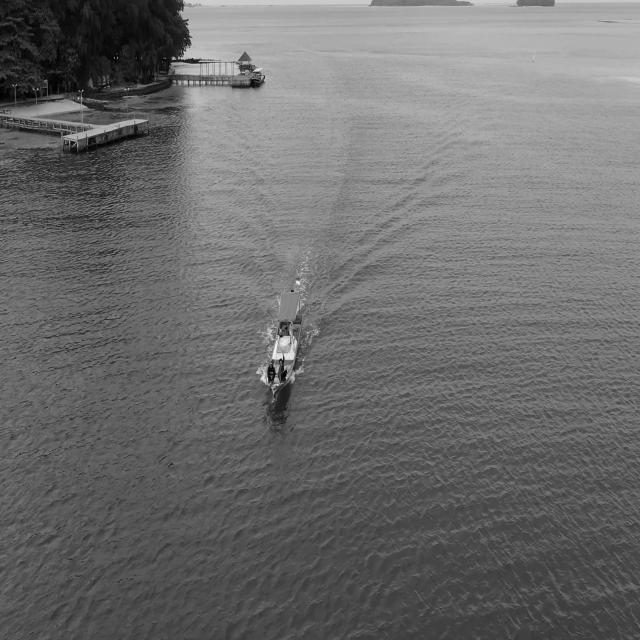ship: (260, 294, 312, 398)
